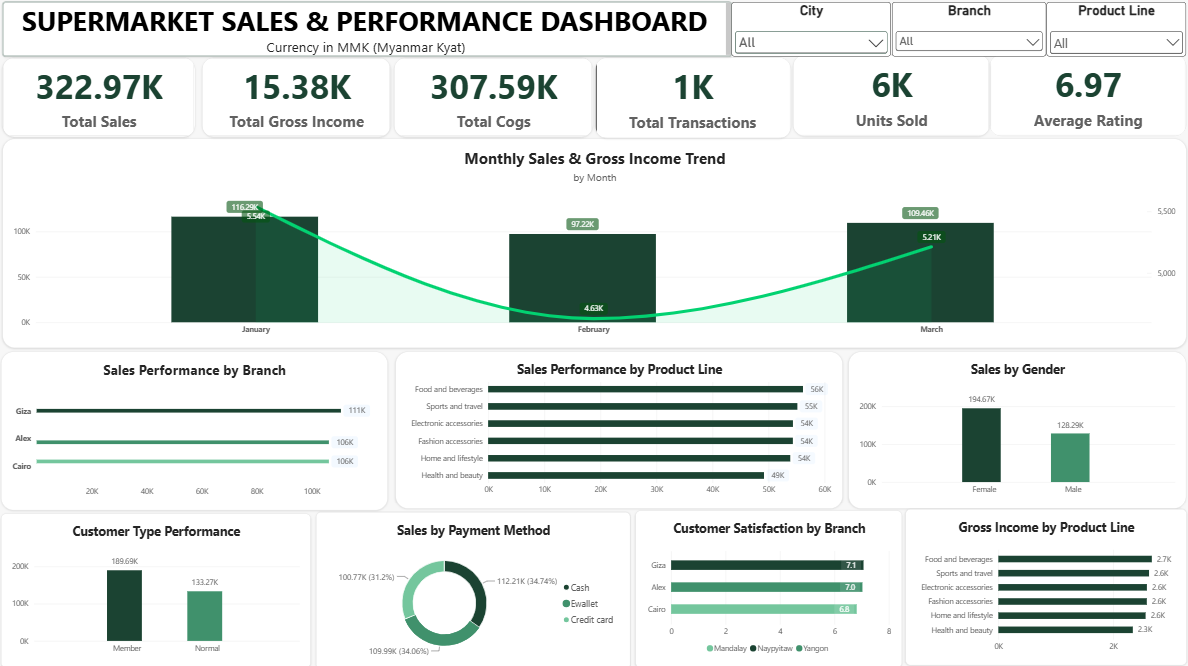

Layout of this report page (visuals, bound fields, positions):
{"tool":"powerbi","page":{"name":"Page 1","canvas":[1920,1080],"ordinal":0},"visuals":[{"type":"lineClusteredColumnComboChart","title":"Monthly Sales & Gross Income Trend","fields":{"Category":["MONTHLY PERFORMANCE_SALES TRENDS.Month"],"Y":["Sum(MONTHLY PERFORMANCE_SALES TRENDS.Total_Sales)"],"Y2":["Sum(MONTHLY PERFORMANCE_SALES TRENDS.Total_Gross_Income)"]},"box":[16.7,236.7,1883.3,333.3],"z":0},{"type":"clusteredBarChart","title":"Sales Performance by Branch","fields":{"Category":["BRANCH PERFORMANCE.Branch"],"Series":["BRANCH PERFORMANCE.City"],"Y":["Sum(BRANCH PERFORMANCE.Total_Sales)"]},"box":[15,575,615,252.5],"z":1000},{"type":"clusteredBarChart","title":"Sales Performance by Product Line","fields":{"Category":["PRODUCT PERFORMANCE.Product line"],"Y":["Sum(PRODUCT PERFORMANCE.Total_Sales)"]},"box":[641.4,575.7,711.4,250],"z":2000},{"type":"clusteredColumnChart","title":"Customer Type Performance","fields":{"Category":["CUSTOMER PERFORMANCE.Customer Type"],"Y":["Sum(CUSTOMER PERFORMANCE.Total_Sales)"]},"box":[15,832.5,492.5,245],"z":3000},{"type":"donutChart","title":"Sales by Payment Method","fields":{"Category":["PAYMENT PERFORMANCE.Payment"],"Y":["Sum(PAYMENT PERFORMANCE.Total_Sales)"]},"box":[515,830,500,250],"z":4000},{"type":"clusteredColumnChart","title":"Sales by Gender","fields":{"Category":["GENDER_DEMOGRAPHICS.Gender"],"Y":["Sum(GENDER_DEMOGRAPHICS.Total_Sales)"]},"box":[1362.9,575.7,537.1,250],"z":5000},{"type":"barChart","title":"Customer Satisfaction by Branch","fields":{"Category":["BRANCH CUSTOMER SATISFACTION.Branch"],"Series":["BRANCH CUSTOMER SATISFACTION.City"],"Y":["Sum(BRANCH CUSTOMER SATISFACTION.Average_Rating)"]},"box":[1022.9,827.1,424.3,250],"z":6000},{"type":"clusteredBarChart","title":"Gross Income by Product Line","fields":{"Category":["GROSS INCOME BY PRODUCT LINE.Product line"],"Y":["Sum(GROSS INCOME BY PRODUCT LINE.Total_Gross_Income)"]},"box":[1453.3,826.7,447.1,248.6],"z":7000},{"type":"cardVisual","fields":{"Data":["Sum(KPIs.Average_Rating)"]},"box":[1586.7,103.3,313.3,130],"z":8000},{"type":"cardVisual","fields":{"Data":["Sum(KPIs.Total_Cogs)"]},"box":[640,106.7,316.7,126.7],"z":9000},{"type":"cardVisual","fields":{"Data":["Sum(KPIs.Total_Gross_Income)"]},"box":[333.3,106.7,300,126.7],"z":10000},{"type":"cardVisual","fields":{"Data":["Sum(KPIs.Total_Quantity)"]},"box":[1273.3,103.3,313.3,130],"z":11000},{"type":"cardVisual","fields":{"Data":["Sum(KPIs.Total_Sales)"]},"box":[16.7,106.7,306.7,126.7],"z":12000},{"type":"cardVisual","title":"Total Transaction","fields":{"Data":["Sum(KPIs.Total_Transaction)"]},"box":[960,106.7,311.7,128.3],"z":13000},{"type":"textbox","box":[100,0,300,106.7],"z":14000},{"type":"textbox","box":[16.7,20,1160,86.7],"z":15000},{"type":"slicer","title":"City","fields":{"Values":["BRANCH PERFORMANCE.City"]},"box":[1176.7,20,253.3,86.7],"z":16000},{"type":"slicer","title":"Branch","fields":{"Values":["BRANCH PERFORMANCE.Branch"]},"box":[1431.4,20.2,245.3,86.6],"z":17000},{"type":"slicer","title":"Product Line","fields":{"Values":["GROSS INCOME BY PRODUCT LINE.Product line"]},"box":[1676.6,20.2,222.2,86.6],"z":18000}]}

Visuals, with their boxes in screenshot pixels (x1, y1, x2, y2), scaled from the page's 1920x1080 canvas onto the 1188x666 screenshot:
"Monthly Sales & Gross Income Trend" lineClusteredColumnComboChart: BBox(10, 146, 1176, 352)
"Sales Performance by Branch" clusteredBarChart: BBox(9, 355, 390, 510)
"Sales Performance by Product Line" clusteredBarChart: BBox(397, 355, 837, 509)
"Customer Type Performance" clusteredColumnChart: BBox(9, 513, 314, 664)
"Sales by Payment Method" donutChart: BBox(319, 512, 628, 665)
"Sales by Gender" clusteredColumnChart: BBox(843, 355, 1176, 509)
"Customer Satisfaction by Branch" barChart: BBox(633, 510, 895, 664)
"Gross Income by Product Line" clusteredBarChart: BBox(899, 510, 1176, 663)
cardVisual - Sum(KPIs.Average_Rating): BBox(982, 64, 1176, 144)
cardVisual - Sum(KPIs.Total_Cogs): BBox(396, 66, 592, 144)
cardVisual - Sum(KPIs.Total_Gross_Income): BBox(206, 66, 392, 144)
cardVisual - Sum(KPIs.Total_Quantity): BBox(788, 64, 982, 144)
cardVisual - Sum(KPIs.Total_Sales): BBox(10, 66, 200, 144)
"Total Transaction" cardVisual: BBox(594, 66, 787, 145)
textbox: BBox(62, 0, 248, 66)
textbox: BBox(10, 12, 728, 66)
"City" slicer: BBox(728, 12, 885, 66)
"Branch" slicer: BBox(886, 12, 1037, 66)
"Product Line" slicer: BBox(1037, 12, 1175, 66)
